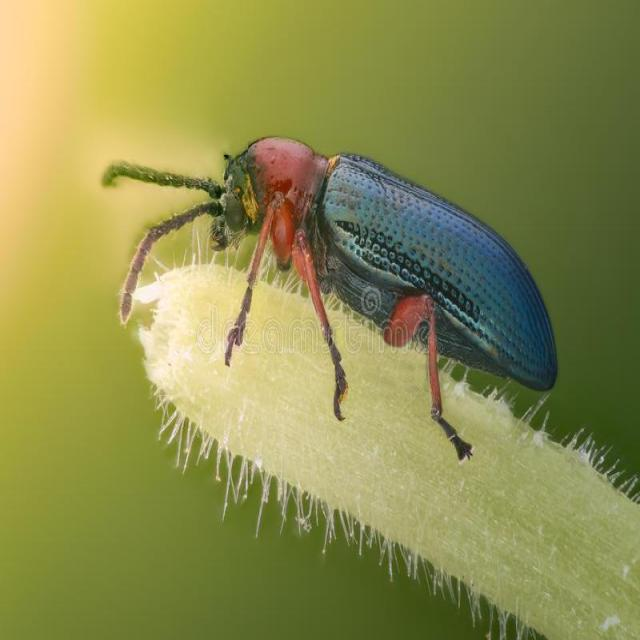BlisterBeetle-Adult-: (95, 137, 561, 464)
